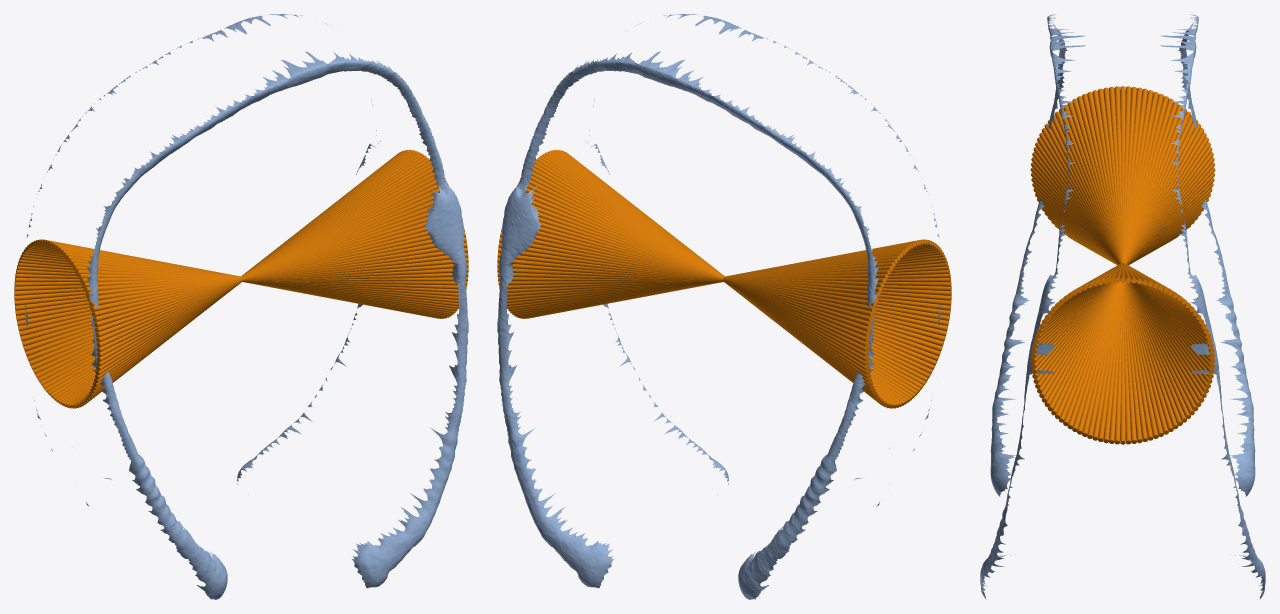
The model's file is A20023504_6145-37-530-7664_DigitalTwin.glb.
3 renders of one model, left to right at view 1: azimuth 30°, elevation 25°; view 2: azimuth 150°, elevation 25°; view 3: azimuth 270°, elevation 25°, orthographic. The views are drawn at different scales.
Visible parts, largest first — view 1: world; view 2: world; view 3: world.
Boxes of the visible parts, x1,y1,x2,y2 form: world: [14, 14, 468, 599]; world: [497, 14, 951, 599]; world: [980, 14, 1265, 599].
Bounding box in the file's own units: 332 × 435 × 208.
